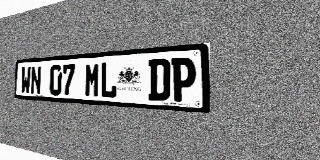0: (49, 64, 62, 96)
7: (62, 64, 75, 96)
D: (148, 58, 170, 101)
L: (100, 61, 117, 99)
M: (85, 62, 100, 98)
N: (30, 66, 41, 95)
P: (171, 57, 196, 102)
W: (21, 66, 31, 94)
